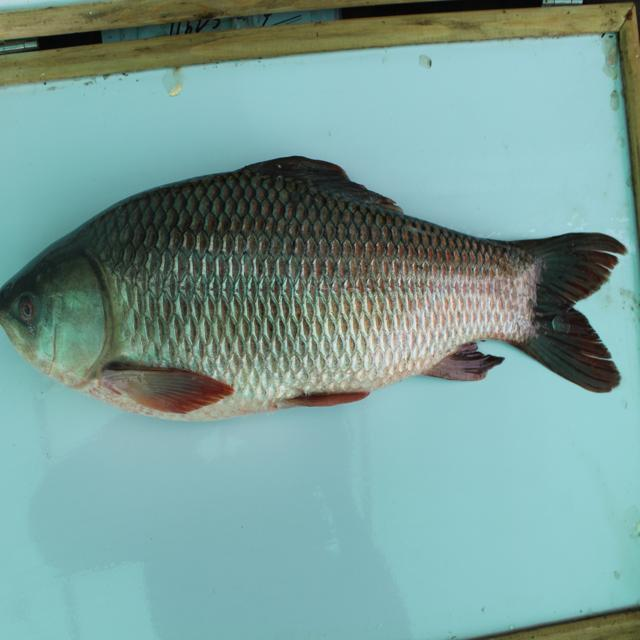Grass Carp: (0, 153, 631, 425)
